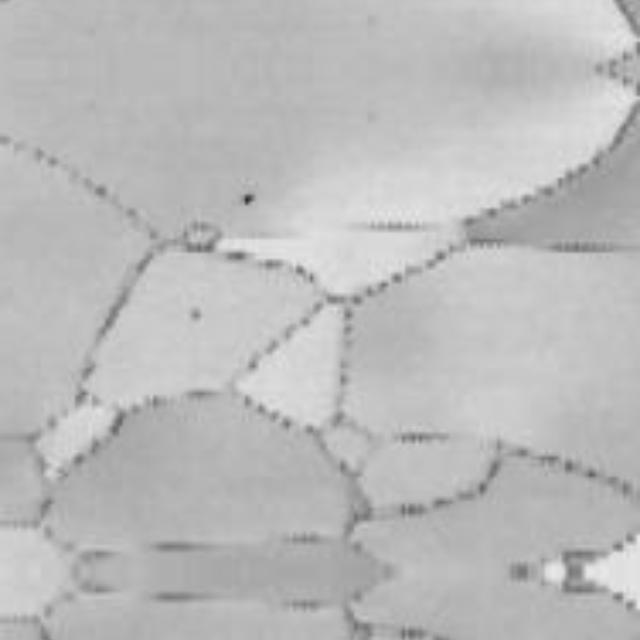good_void: (186, 300, 202, 319), (241, 190, 255, 206)
